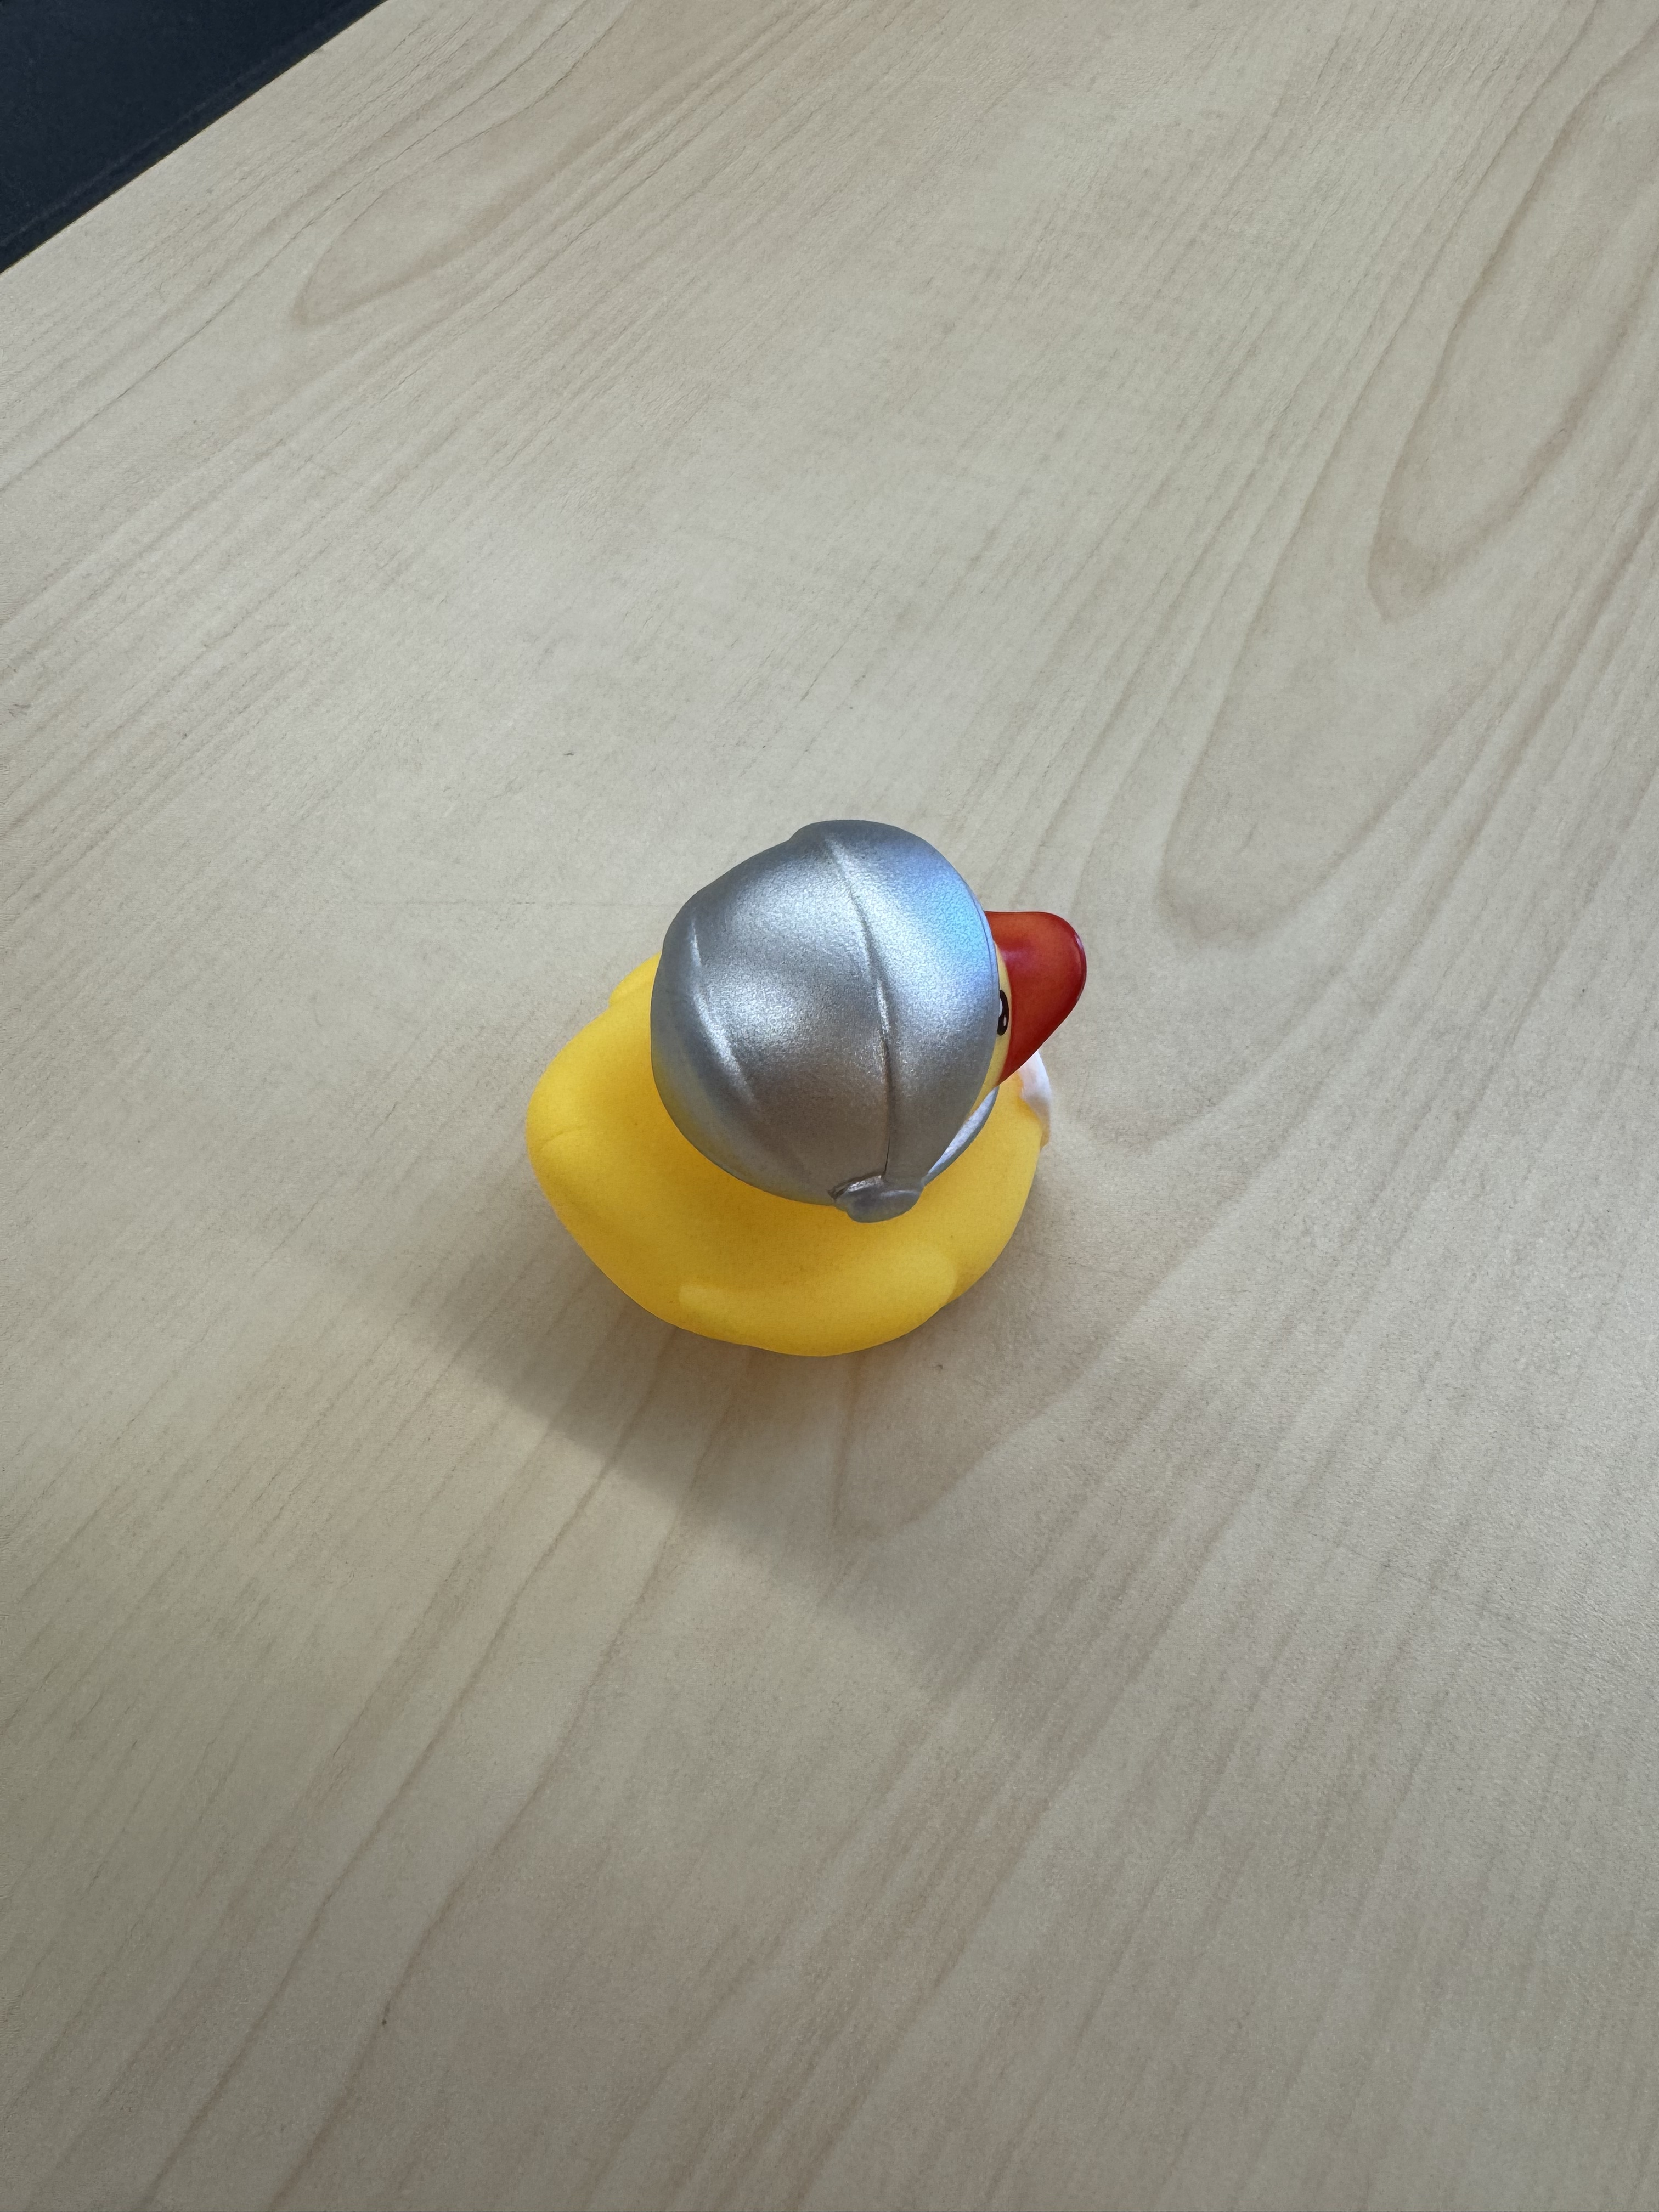duck_specialty: (519, 808, 1107, 1372)
